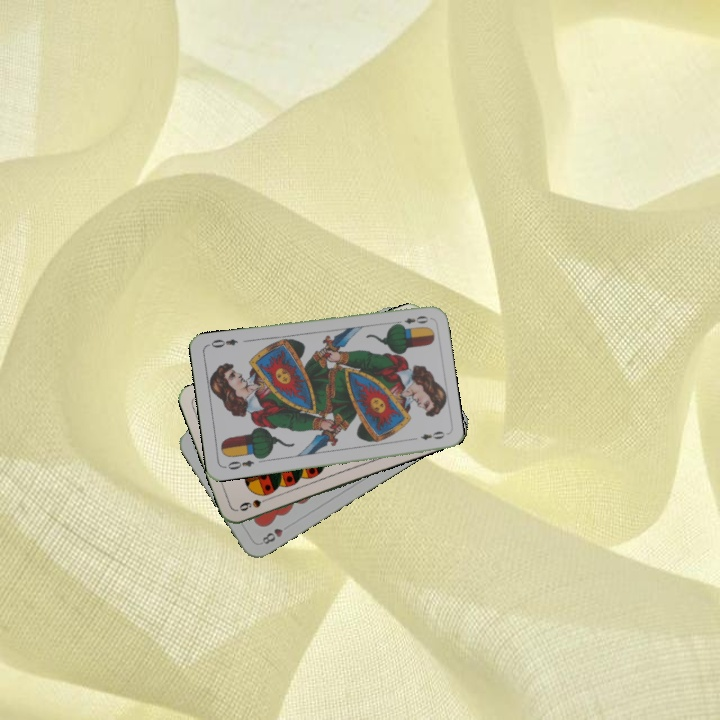EO: (391, 312, 431, 329), (224, 456, 257, 472)
H8: (258, 524, 286, 547)
S9: (235, 493, 274, 514)
